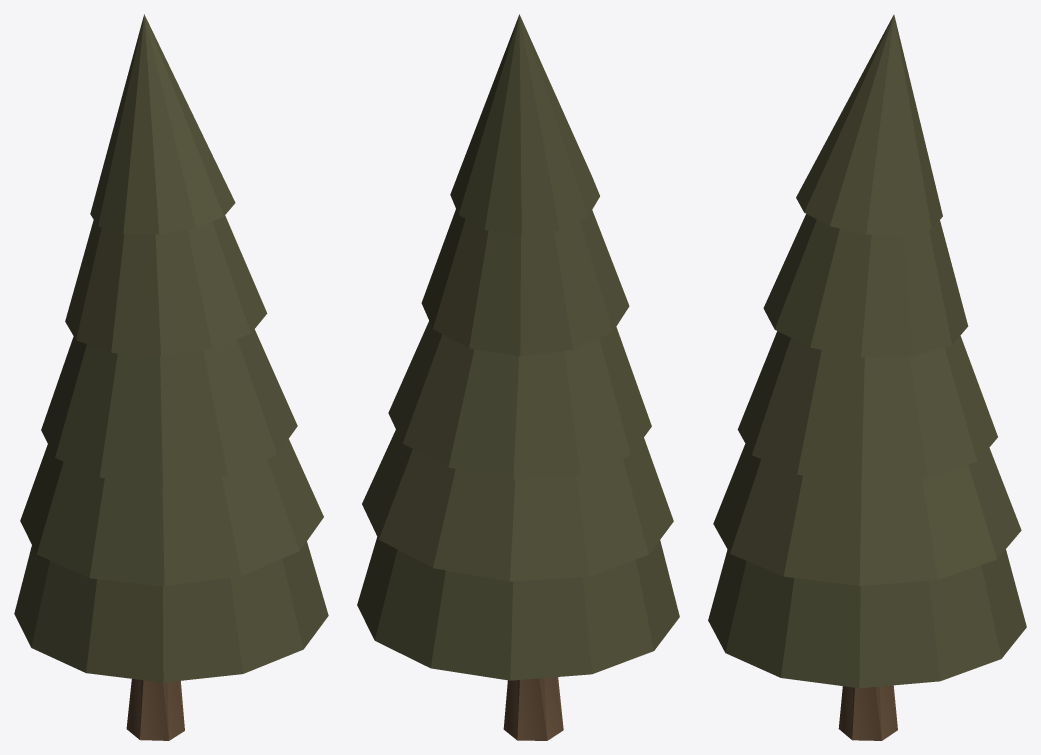
The model's file is tree_conifer_green_2.glb.
3 views of the same model, side by side, from view 1: azimuth 30°, elevation 25°; view 2: azimuth 150°, elevation 25°; view 3: azimuth 270°, elevation 25° (orthographic). The views are drawn at different scales.
Visible parts, largest first — view 1: Tree Conifer 2.053; view 2: Tree Conifer 2.053; view 3: Tree Conifer 2.053.
Boxes of the visible parts, x1,y1,x2,y2 form: Tree Conifer 2.053: (14, 14, 328, 740); Tree Conifer 2.053: (357, 14, 679, 740); Tree Conifer 2.053: (708, 14, 1026, 740).
Bounding box in the file's own units: 0.1755 × 0.4352 × 0.1756.
